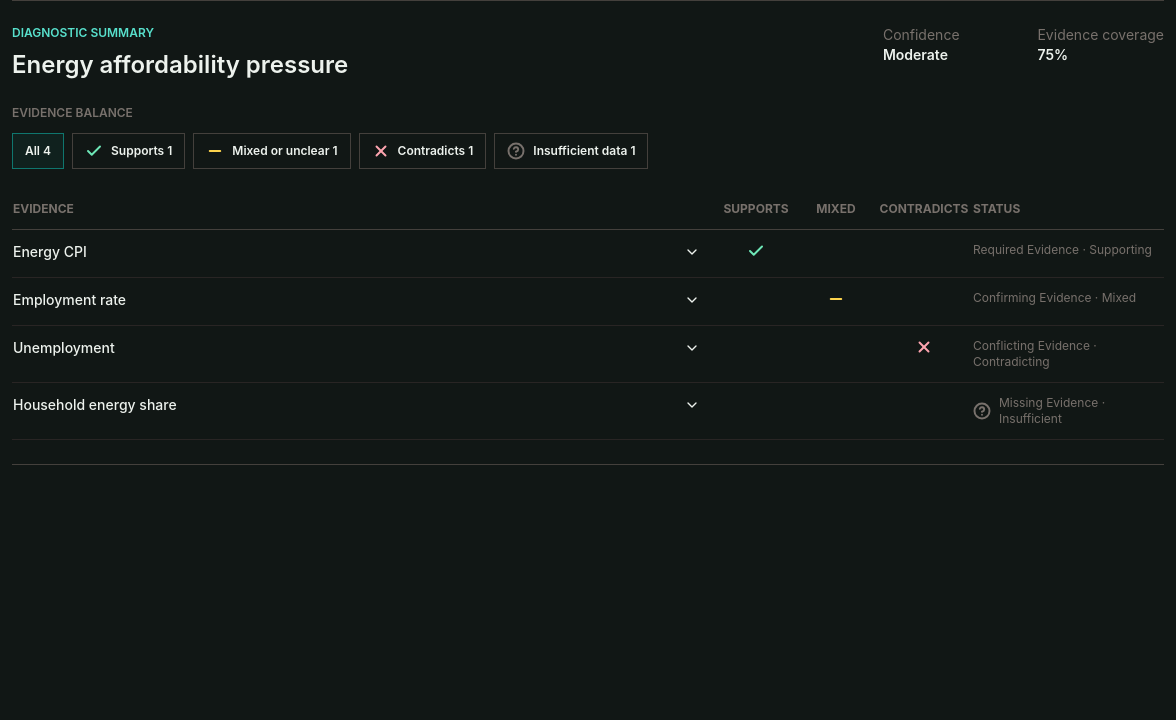
Test: EvidenceMatrix › expands evidence details with values, dates, and calculation context
This screenshot has width=1176, height=720.
Click the button "Energy CPI" at (50, 252), box [13,242,700,262]
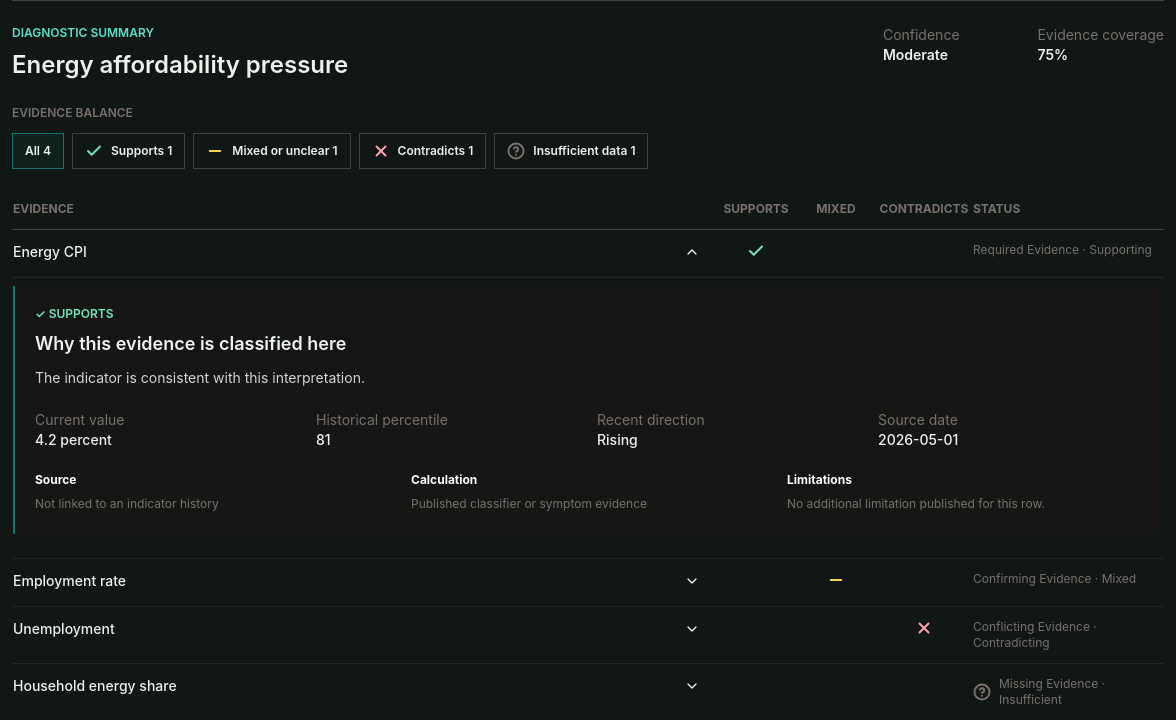
Now the button "Energy CPI" is expanded, box [13,242,700,262]
Now the text "4.2 percent" is shown, box [35,431,112,448]
Now the text "2026-05-01" is shown, box [878,431,958,448]
